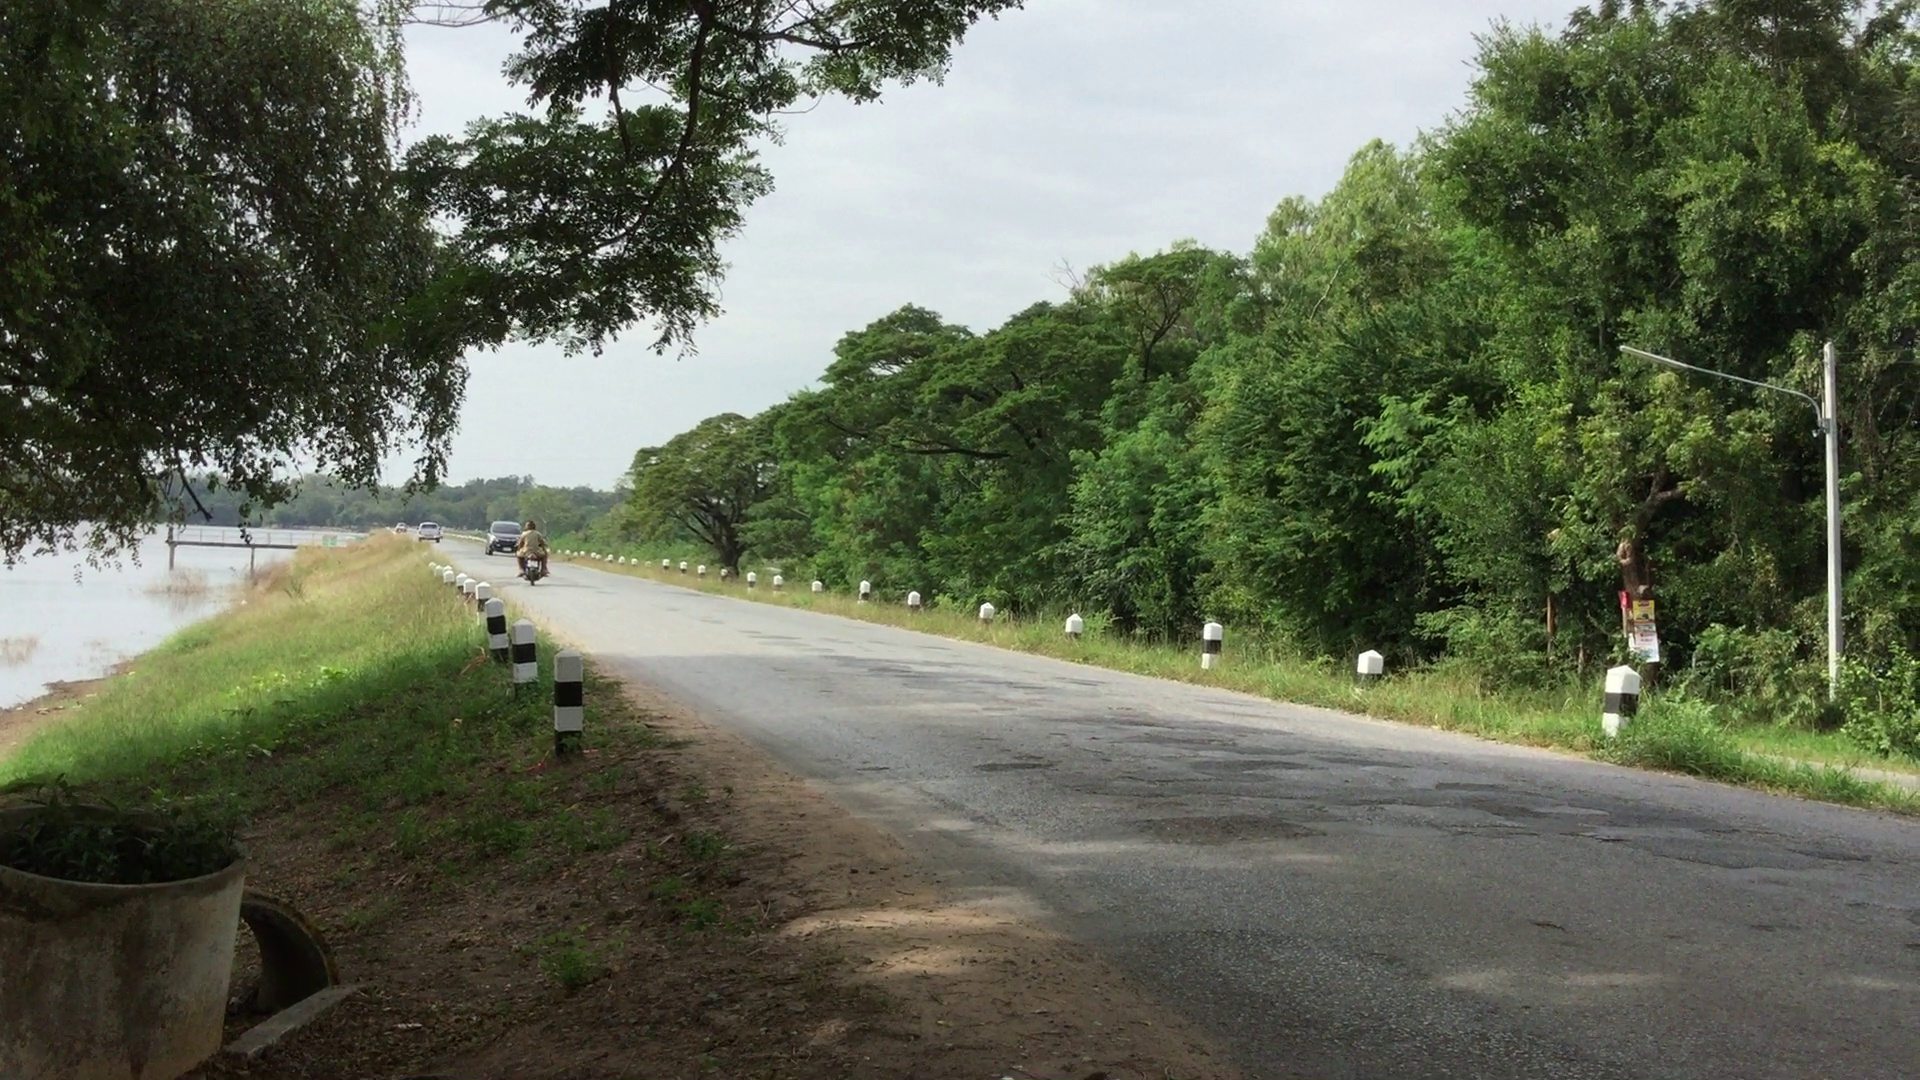car: (481, 517, 523, 557), (415, 517, 445, 547)
person: (512, 519, 553, 584)
post: (551, 645, 587, 757), (1602, 659, 1640, 742), (509, 619, 543, 691), (480, 595, 512, 666), (1352, 642, 1390, 697), (1196, 619, 1230, 668), (1061, 607, 1086, 644), (856, 574, 871, 607)
